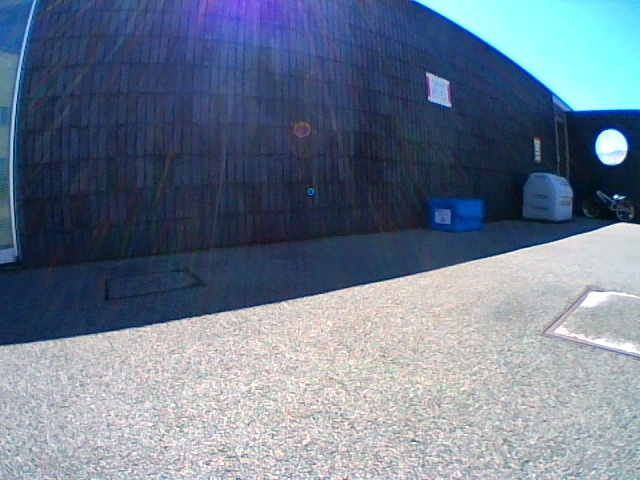blue_box: (429, 199, 481, 232)
tag: (437, 211, 449, 223)
